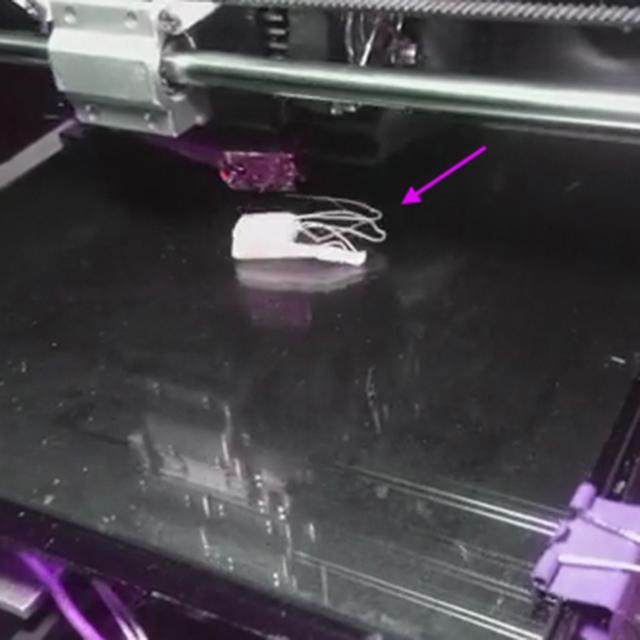Spaghetti: (292, 193, 388, 252)
